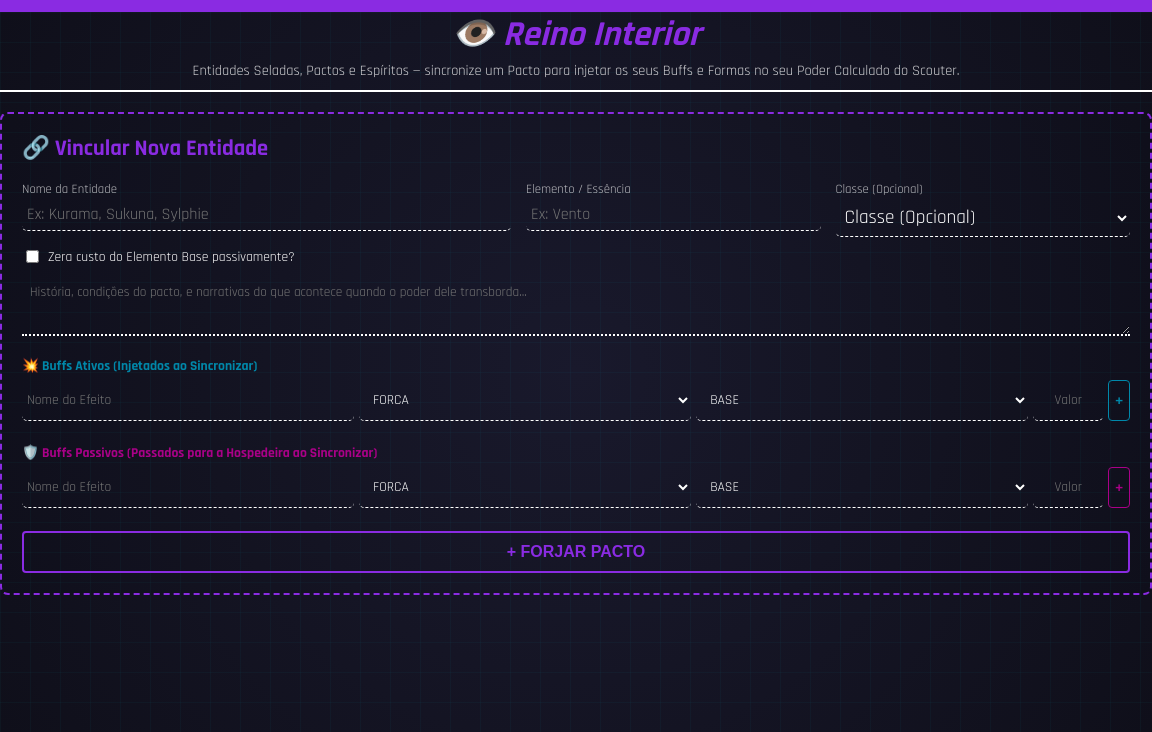
Test: PactosPanel — rascunho de Buffs Ativos/Passivos (antes de salvar o Pacto) › clicar no "X" do chip remove o buff da lista do rascunho
Type "Garra Flamejante" into the 1st field with placeholder "Nome do Efeito" at (188, 400), box left=22, top=380, right=354, bottom=421
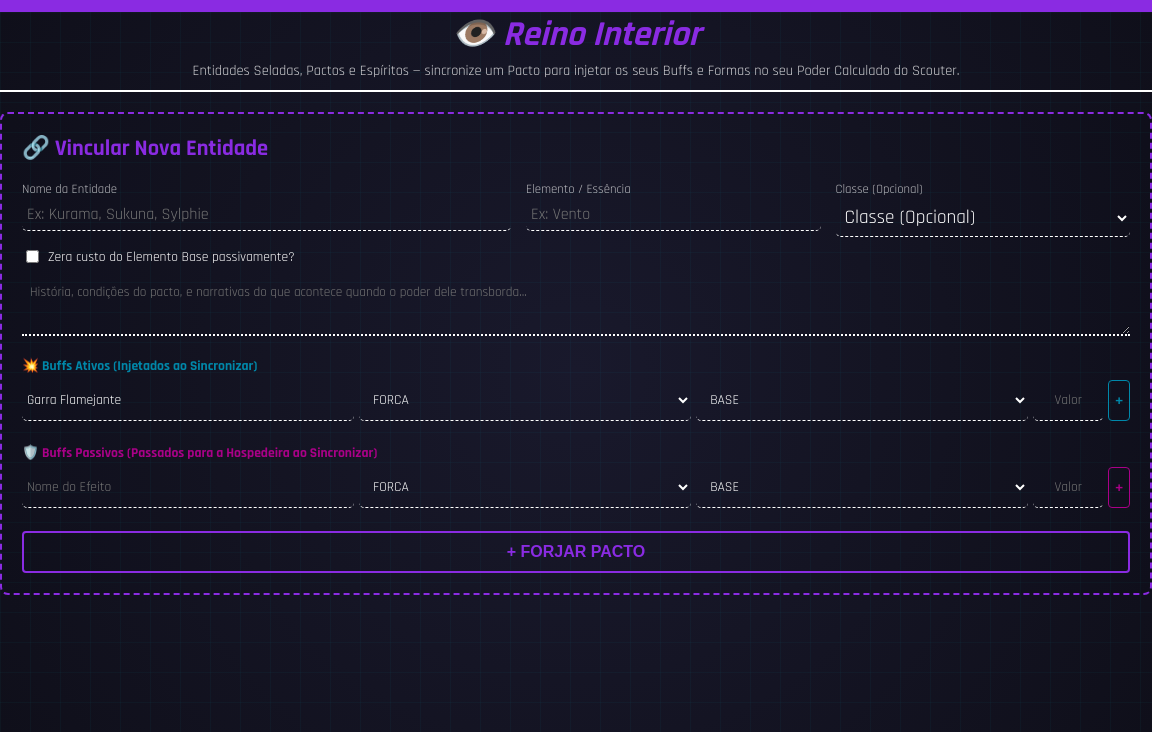
Type "7" into the 1st field with placeholder "Valor" at (1068, 400), box left=1033, top=380, right=1103, bottom=421
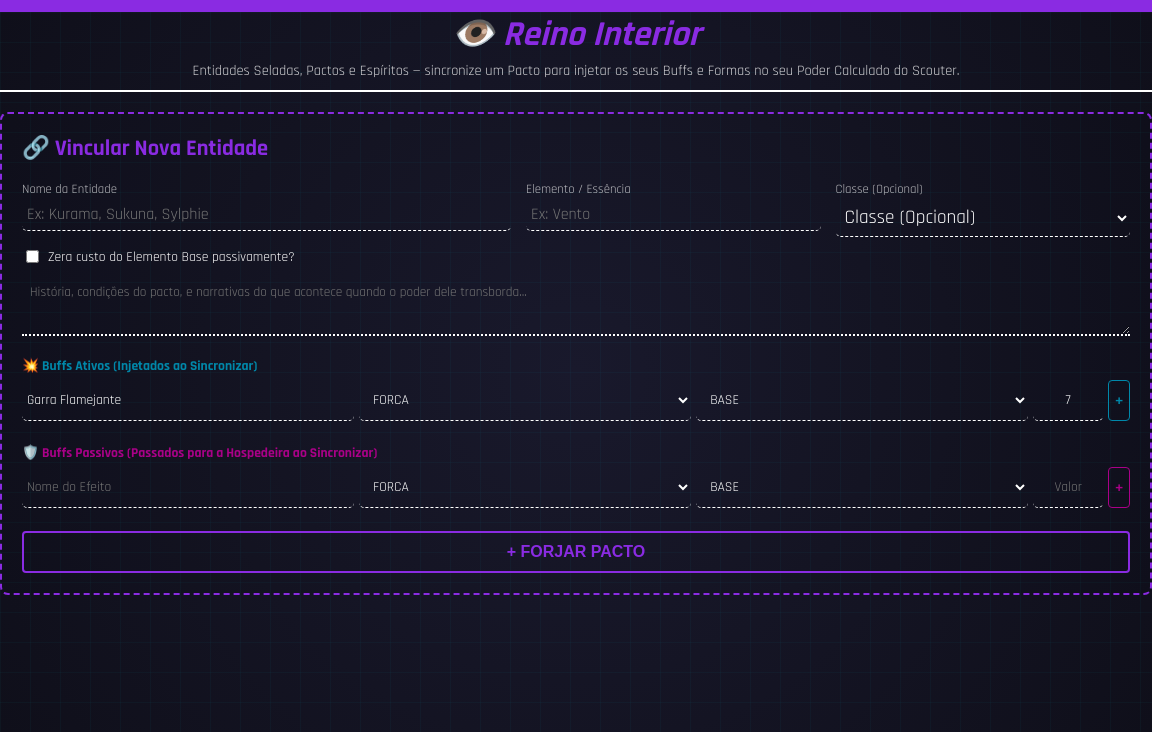
Click the 1st button "+" at (1119, 400), box left=1108, top=380, right=1130, bottom=421
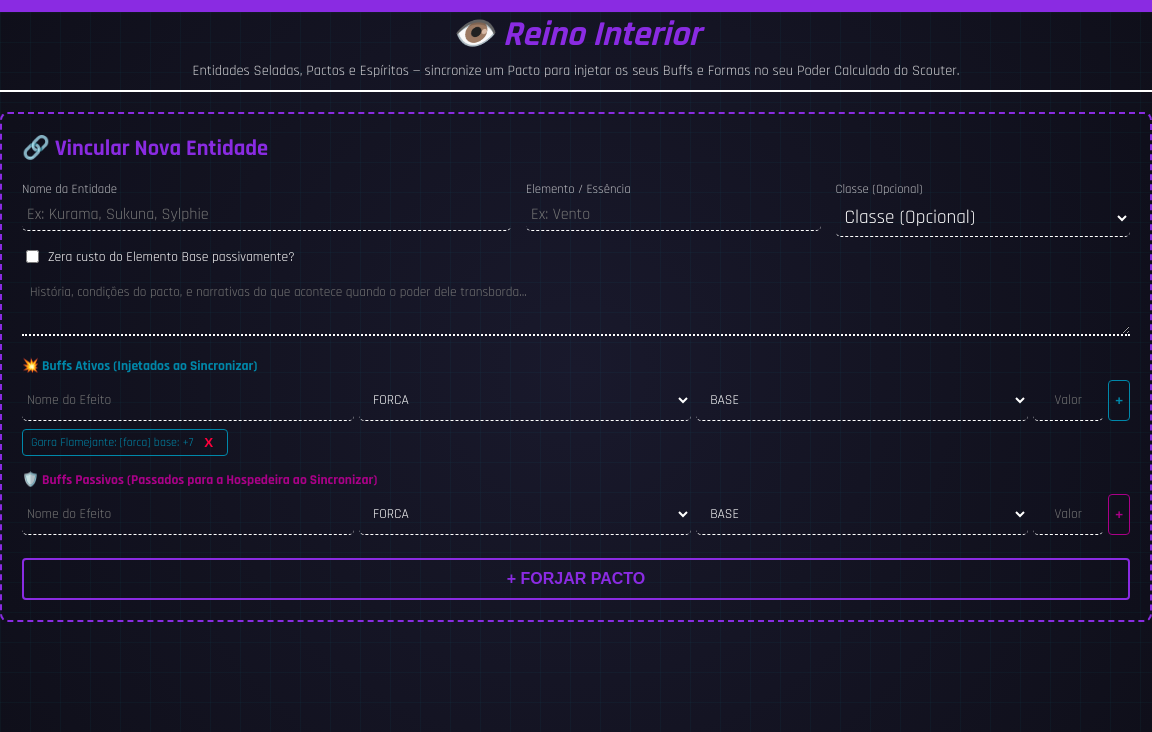
Check: the text "Garra Flamejante: [forca] base: +7" is shown, box left=31, top=435, right=193, bottom=450
Click the button "X" at (209, 442), box left=198, top=434, right=219, bottom=451
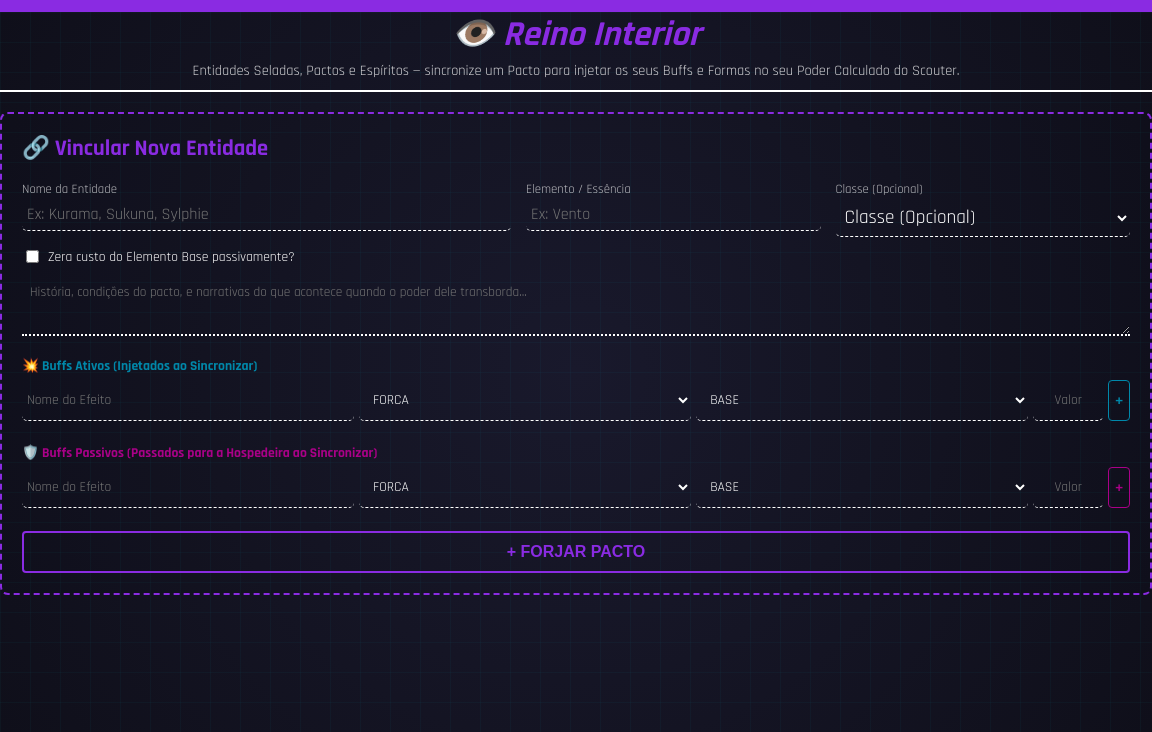
Check: the text "Garra Flamejante" is gone
